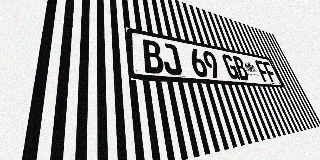6: (188, 47, 209, 77)
9: (201, 50, 222, 78)
B: (141, 39, 165, 74), (231, 55, 250, 81)
F: (254, 60, 271, 82), (262, 61, 278, 83)
G: (221, 54, 240, 80)
J: (160, 42, 183, 75)
